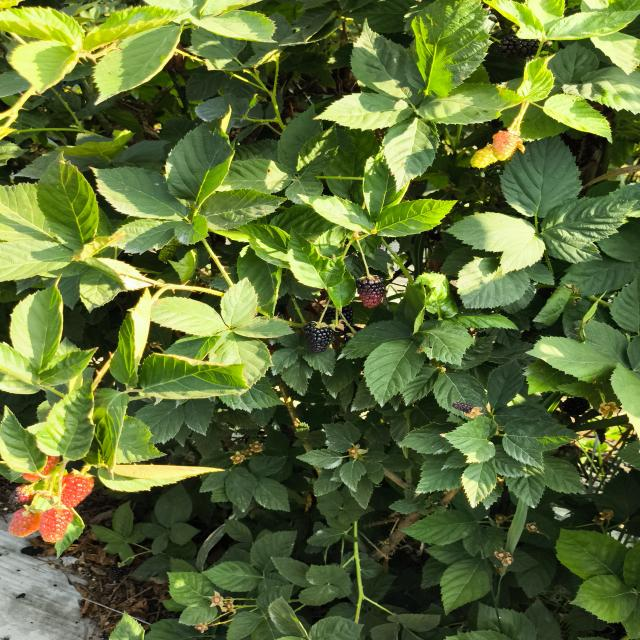maduro: (304, 322, 333, 353)
marron: (356, 276, 385, 308), (9, 484, 34, 505)
naranja: (39, 507, 74, 542), (61, 474, 93, 507), (491, 130, 524, 160), (8, 509, 40, 537), (41, 456, 58, 475), (22, 473, 39, 482)
verde: (470, 144, 498, 168)
